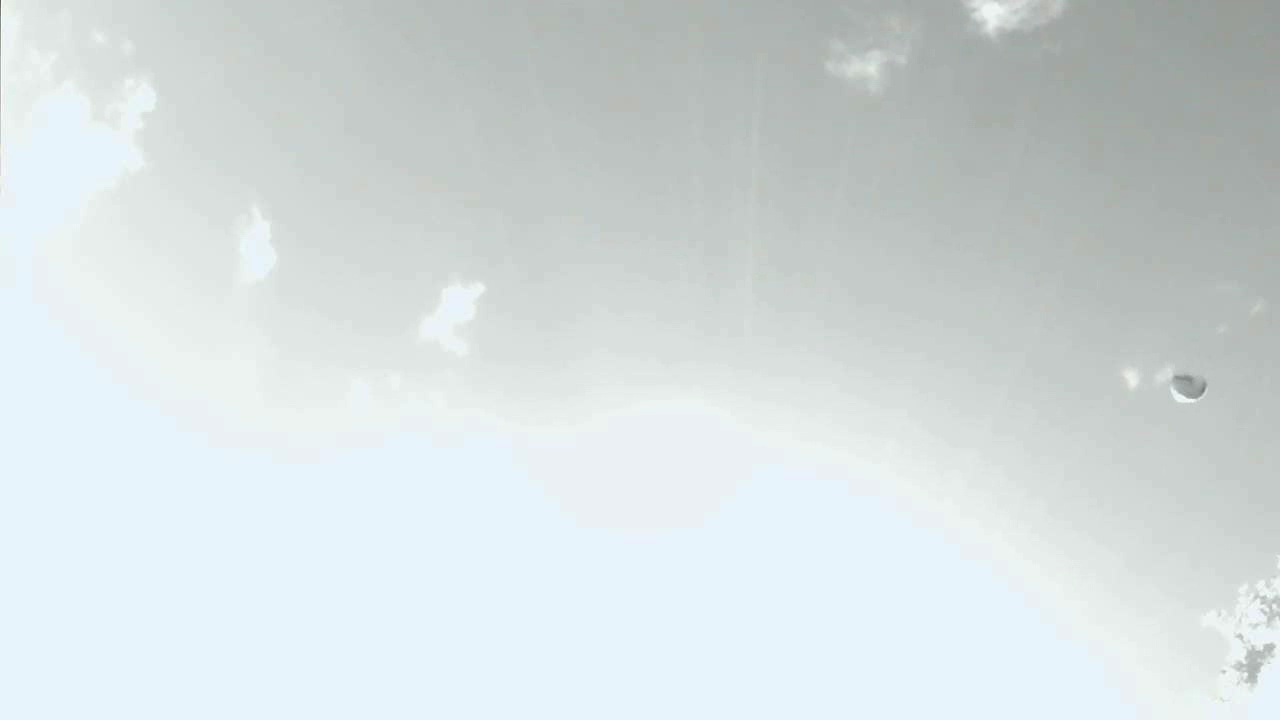Football-Spotter: (1170, 374, 1206, 402)
